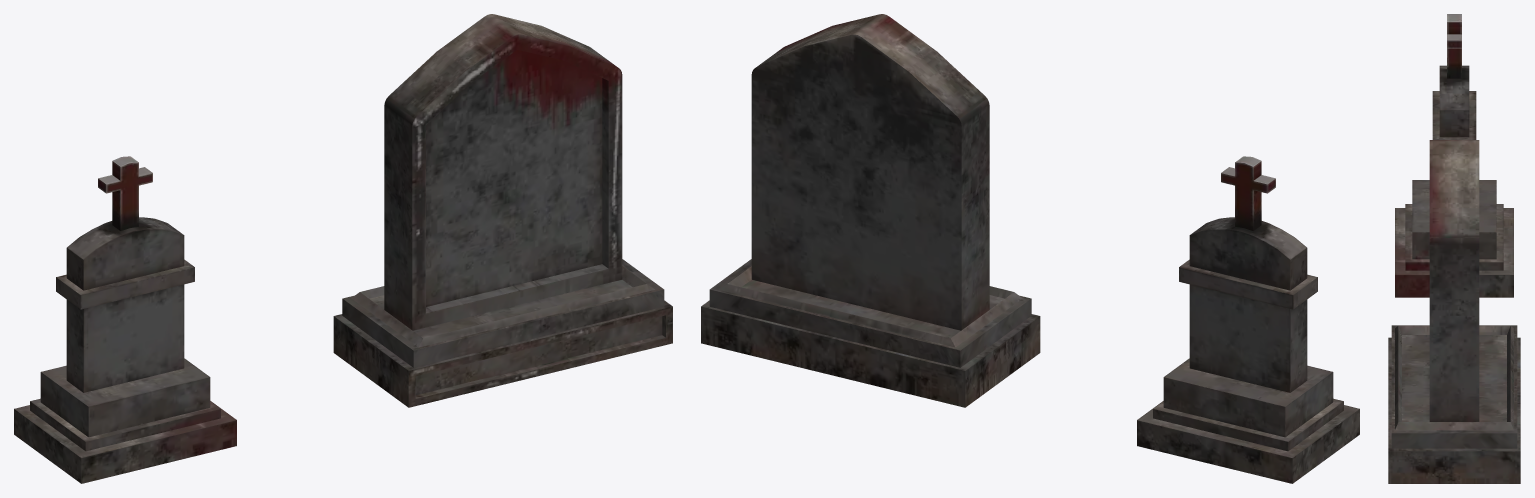
File: t_lap_tumbas.glb
3 renders of one model, left to right at view 1: azimuth 30°, elevation 25°; view 2: azimuth 150°, elevation 25°; view 3: azimuth 270°, elevation 25°, orthographic. The views are drawn at different scales.
Visible parts, largest first — view 1: pCube3_Graves_base_Material_0; view 2: pCube3_Graves_base_Material_0; view 3: pCube3_Graves_base_Material_0.
Boxes of the visible parts, x1=… form: pCube3_Graves_base_Material_0: x1=14, y1=14, x2=672, y2=483; pCube3_Graves_base_Material_0: x1=701, y1=14, x2=1359, y2=483; pCube3_Graves_base_Material_0: x1=1388, y1=14, x2=1520, y2=483.
Size of the model in its own units: 1.9 by 1 by 0.4203.
Materials: 1 (1 with a texture image).
